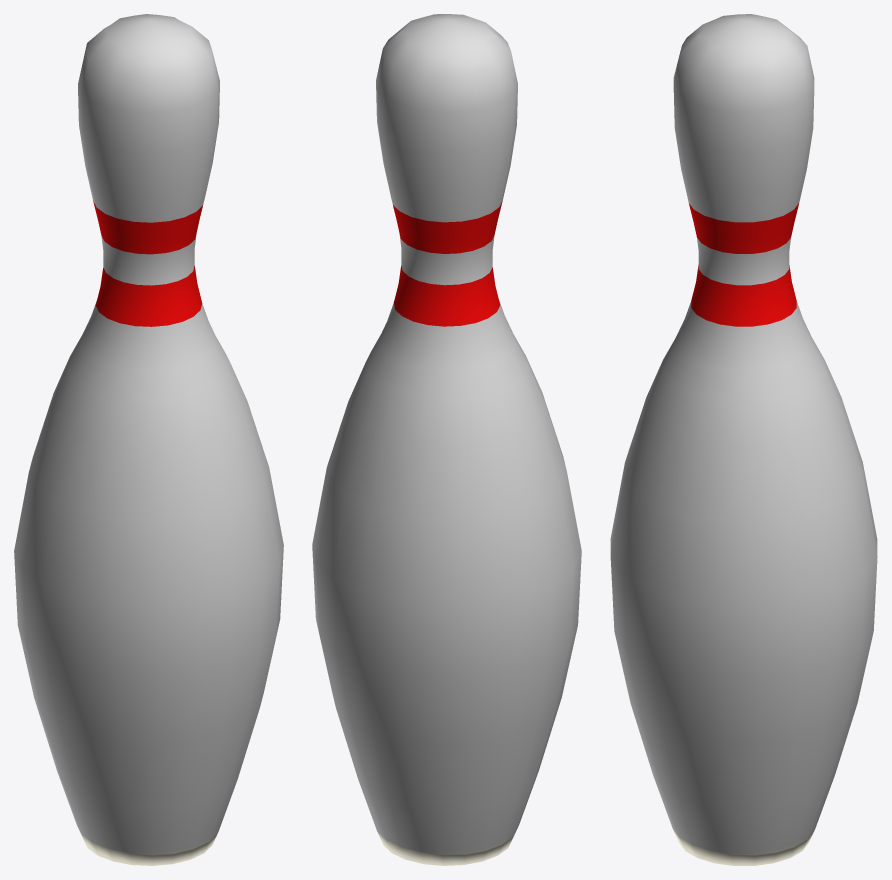
File: Pin.fbx
The picture shows the model from 3 angles, left to right: view 1: azimuth 30°, elevation 25°; view 2: azimuth 150°, elevation 25°; view 3: azimuth 270°, elevation 25°; orthographic projection.
Parts seen in each view (by area): view 1: Pin; view 2: Pin; view 3: Pin.
Boxes of the visible parts, x1,y1,x2,y2 form: Pin: [14, 14, 283, 865]; Pin: [312, 14, 581, 865]; Pin: [610, 14, 877, 865].
Bounding box in the file's own units: 376 × 1270 × 376.
